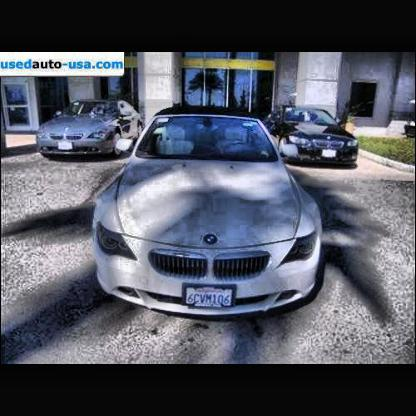BMW 6 Series Convertible 2007: (91, 104, 326, 324)
